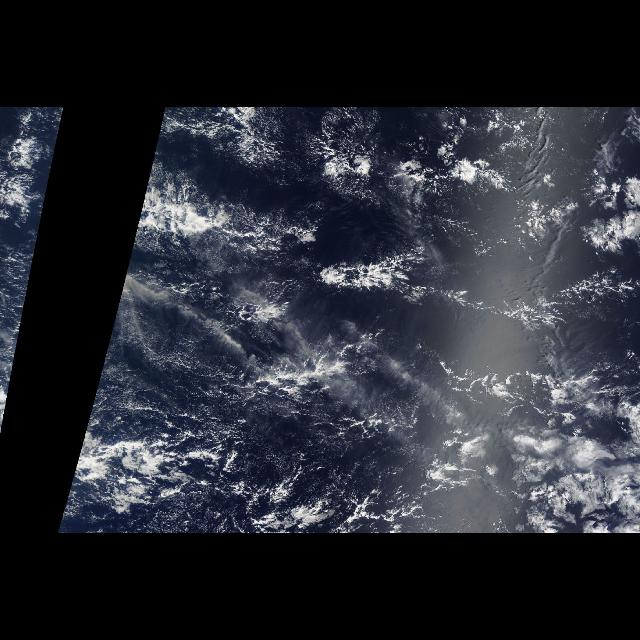Fish: (122, 174, 590, 350)
Gravel: (65, 430, 233, 514)
Sugar: (85, 303, 278, 431)
